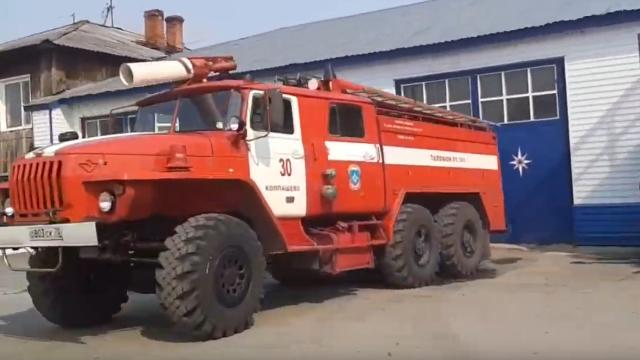fire fighting vehicle: (1, 55, 507, 343)
